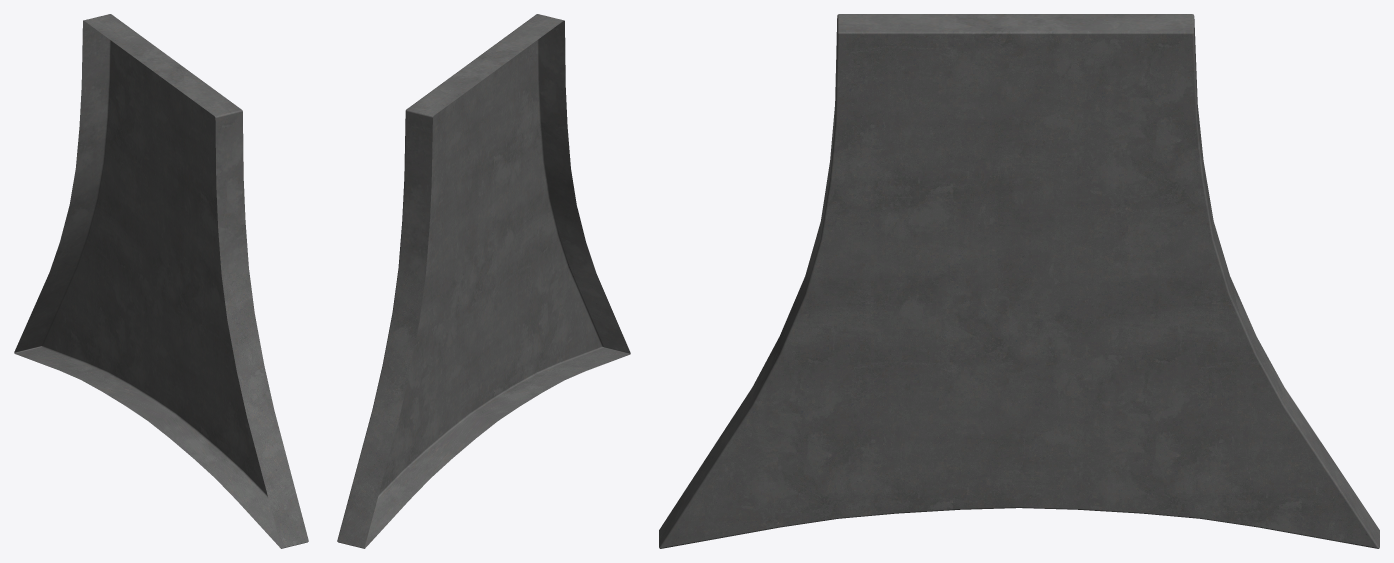
The model's file is cP_Pathway04_07.dae.
The picture shows the model from 3 angles, left to right: view 1: azimuth 30°, elevation 25°; view 2: azimuth 150°, elevation 25°; view 3: azimuth 270°, elevation 25°; orthographic projection. The views are drawn at different scales.
Visible parts, largest first — view 1: cP_Pathway04_07.001; view 2: cP_Pathway04_07.001; view 3: cP_Pathway04_07.001.
Part boxes in pixels (left/top/right/bottom): cP_Pathway04_07.001: left=14, top=14, right=308, bottom=548; cP_Pathway04_07.001: left=337, top=14, right=630, bottom=548; cP_Pathway04_07.001: left=659, top=14, right=1379, bottom=548.
Bounding box in the file's own units: 0.5 × 8.26 × 6.54.
